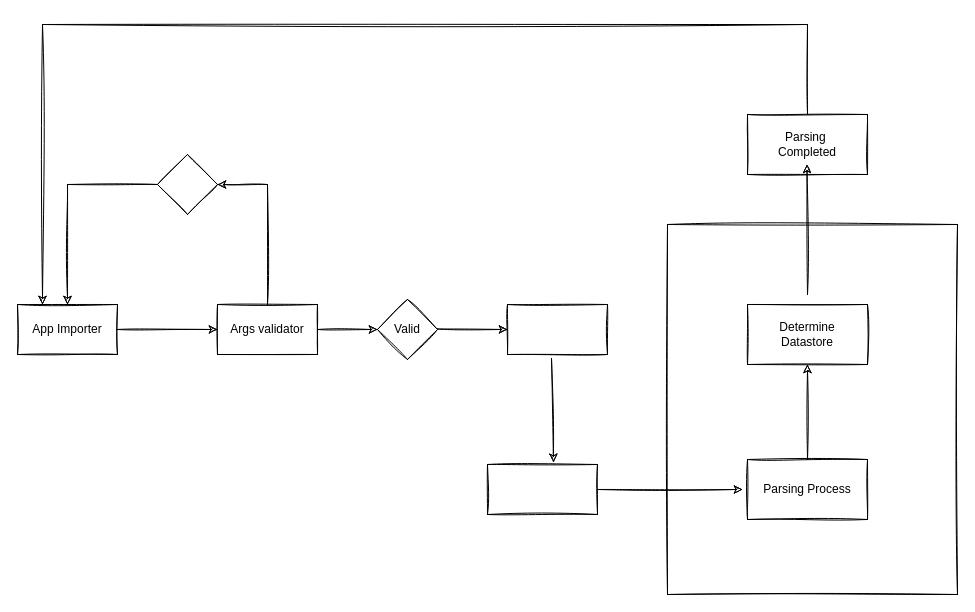
Some shapes in this 975 by 612 pixel diagram are drawn without their labels. Here are the shapes that lost their labels. From the top down, the box of each, then its label:
(156, 154, 218, 214): Invalid
(506, 304, 608, 354): Parser
(486, 464, 598, 514): Parser Factory
